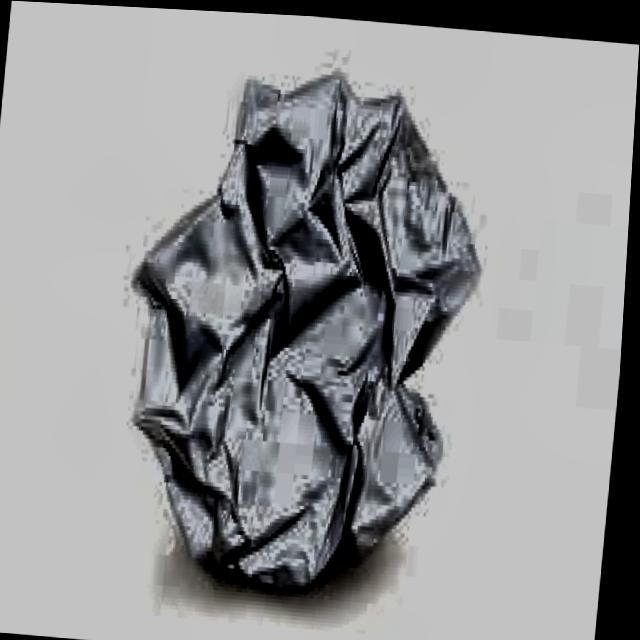Foil: (117, 40, 497, 604)
